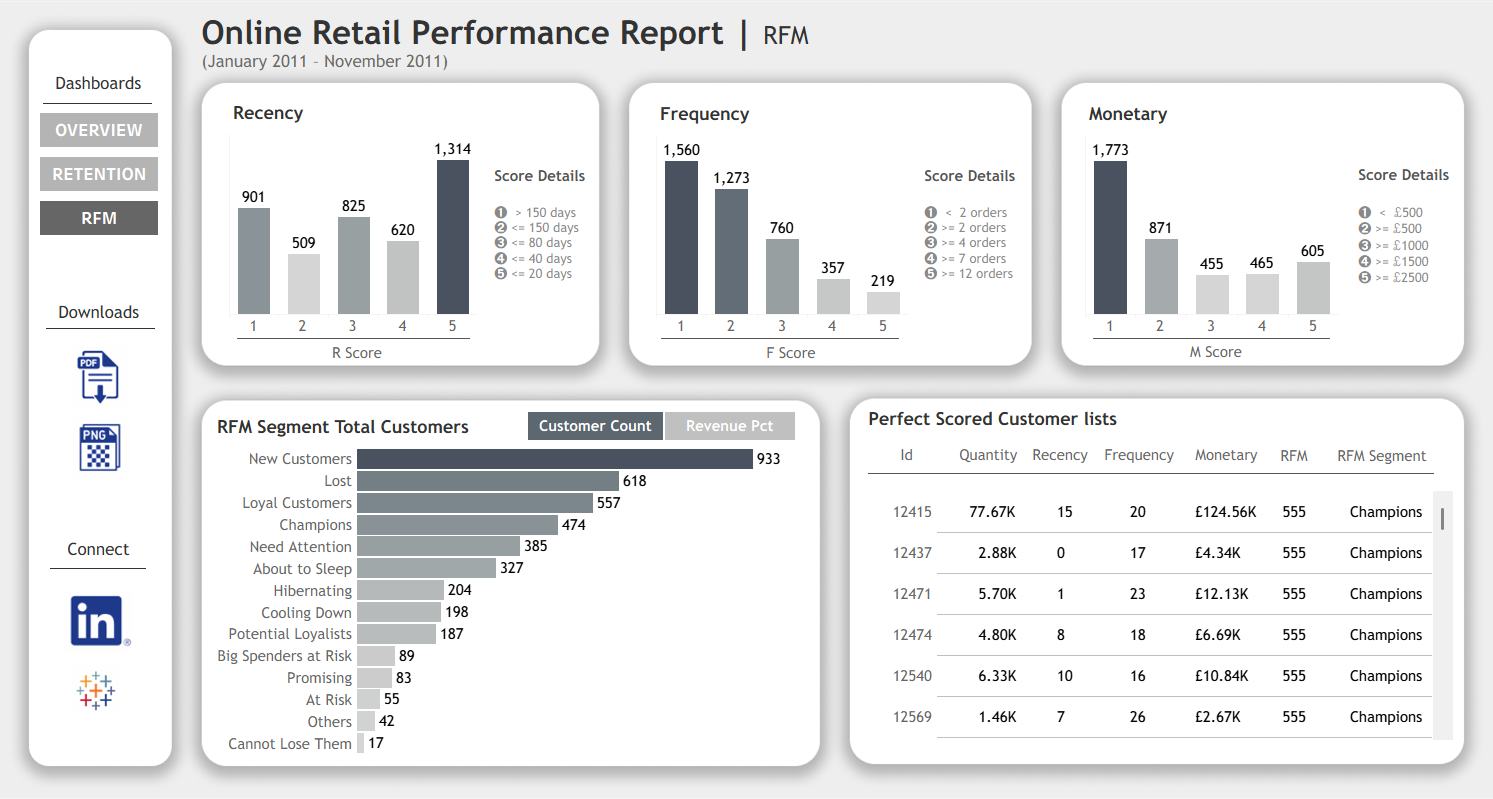

The dashboard page shown, as its layout file describes it:
{"tool":"tableau","page":{"name":"RFM","canvas":[1000,1000],"units":"permille","ordinal":1},"visuals":[{"type":"image","param":"Image/Frame 1 (3).png","box":[0,0,1000,1000]},{"type":"text","box":[134,11.2,602,83.8]},{"type":"text","box":[36.7,85,68.7,37.5]},{"type":"worksheet","title":"R_Score","mark":"Automatic","rows":["customer_id"],"cols":["r_score"],"box":[154.7,122.5,166,297.5]},{"type":"worksheet","title":"F_Score","mark":"Automatic","rows":["customer_id"],"cols":["f_score"],"box":[439.3,123.8,168.7,296.2]},{"type":"worksheet","title":"M_Score","mark":"Automatic","rows":["customer_id"],"cols":["m_score"],"box":[725.3,123.8,169.3,296.2]},{"type":"blank","box":[30.7,128.8,72.7,1.2]},{"type":"dashboard-object","box":[30.7,151.2,66.7,65]},{"type":"text","box":[905.3,206.2,66.7,148.8]},{"type":"text","box":[329.3,208.8,66.7,148.8]},{"type":"text","box":[616,208.8,68.7,148.8]},{"type":"dashboard-object","box":[34.7,240,64.7,65]},{"type":"text","box":[38.7,361.2,66.7,37.5]},{"type":"blank","box":[32.7,400,72.7,1.2]},{"type":"blank","box":[158,402.5,159.3,41.2]},{"type":"blank","box":[440.7,402.5,162.7,41.2]},{"type":"blank","box":[728.7,402.5,162,41.2]},{"type":"text","box":[779.3,421.2,66.7,37.5]},{"type":"text","box":[206.7,422.5,66.7,37.5]},{"type":"text","box":[496,422.5,66.7,37.5]},{"type":"dashboard-object","box":[35.3,423.8,66.7,76.2]},{"type":"text","box":[578.7,505,170.7,37.5]},{"type":"worksheet","title":"RFM Segment","mark":"Automatic","rows":["rfm_segment"],"cols":["customer_id"],"box":[145.3,508.8,395.3,430]},{"type":"dashboard-object","box":[39.3,512.5,60.7,75]},{"type":"text","box":[588,550,22.7,37.5]},{"type":"text","box":[627.3,550,48.7,37.5]},{"type":"text","box":[736,550,54.7,37.5]},{"type":"text","box":[796.7,550,49.3,37.5]},{"type":"text","box":[683.3,551.2,43.3,37.5]},{"type":"text","box":[853.3,551.2,27.3,37.5]},{"type":"text","box":[891.3,551.2,70,37.5]},{"type":"blank","box":[580.7,591.2,377.3,1.2]},{"type":"worksheet","title":"Perfect Scored Customer lists","mark":"Circle","rows":["customer_id"],"cols":["Calculation_0900549563179023","Calculation_0900549563179023","Calculation_0900549563179023","Calculation_0900549563179023","Calculation_0900549563179023","Calculation_0900549563179023"],"box":[581.3,613.8,390,311.2]},{"type":"text","box":[44.7,657.5,66.7,37.5]},{"type":"blank","box":[35.3,700,64,1.2]},{"type":"image","param":"Image/Screenshot 2026-03-17 221749.png","box":[44.7,727.5,46,81.2]},{"type":"image","param":"Image/Screenshot 2026-03-17 221802.png","box":[44.7,822.5,42.7,60]}]}

Visuals, with their boxes on the dashboard's canvas, which has no fixed pixel size, in thousandths of its width and height (x1, y1, x2, y2). These are canvas units, not pixel positions in the 1493x799 screenshot, which may show the page scaled, cropped or inside an application window:
image: 0,0,1000,1000
text: 134,11,736,95
text: 37,85,105,122
"R_Score" worksheet: 155,122,321,420
"F_Score" worksheet: 439,124,608,420
"M_Score" worksheet: 725,124,895,420
blank: 31,129,103,130
dashboard-object: 31,151,97,216
text: 905,206,972,355
text: 329,209,396,358
text: 616,209,685,358
dashboard-object: 35,240,99,305
text: 39,361,105,399
blank: 33,400,105,401
blank: 158,402,317,444
blank: 441,402,603,444
blank: 729,402,891,444
text: 779,421,846,459
text: 207,422,273,460
text: 496,422,563,460
dashboard-object: 35,424,102,500
text: 579,505,749,542
"RFM Segment" worksheet: 145,509,541,939
dashboard-object: 39,512,100,588
text: 588,550,611,588
text: 627,550,676,588
text: 736,550,791,588
text: 797,550,846,588
text: 683,551,727,589
text: 853,551,881,589
text: 891,551,961,589
blank: 581,591,958,592
"Perfect Scored Customer lists" worksheet (Circle marks): 581,614,971,925
text: 45,658,111,695
blank: 35,700,99,701
image: 45,728,91,809
image: 45,822,87,882
